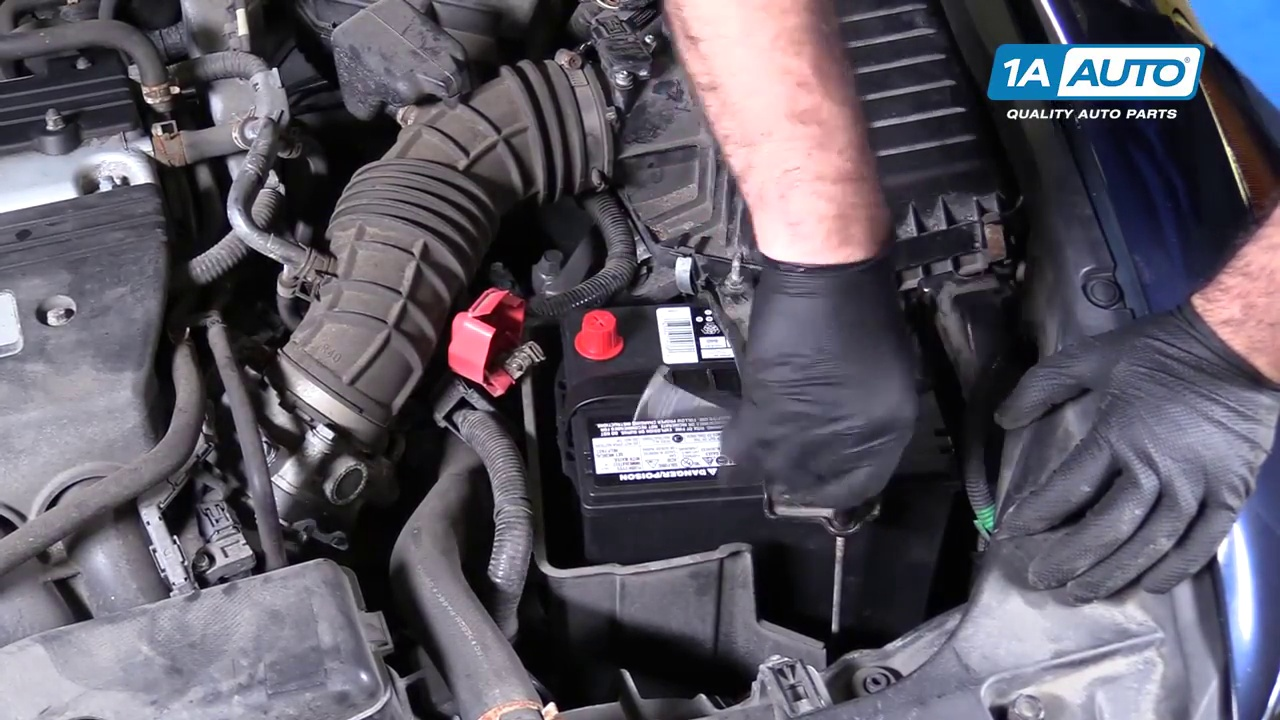battery: (549, 285, 960, 492)
pos_disconnected: (438, 273, 638, 397)
